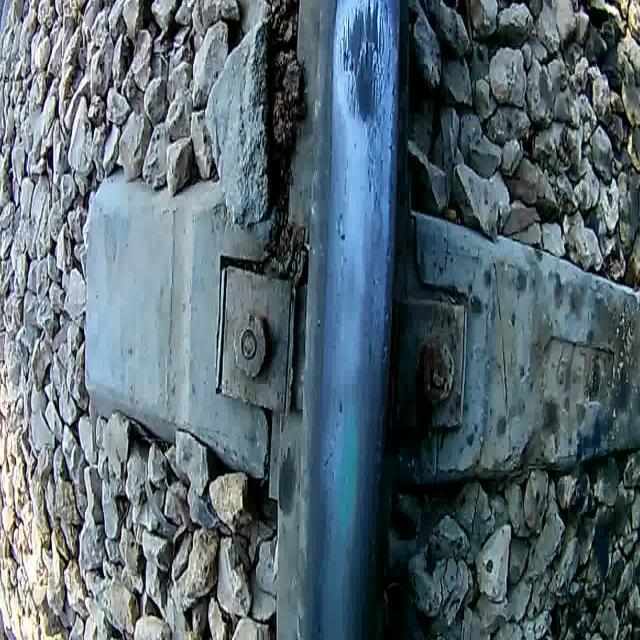Grooves: (367, 2, 393, 216), (337, 1, 357, 123)
Spallings: (367, 233, 397, 608)
Squats: (338, 0, 391, 129)
